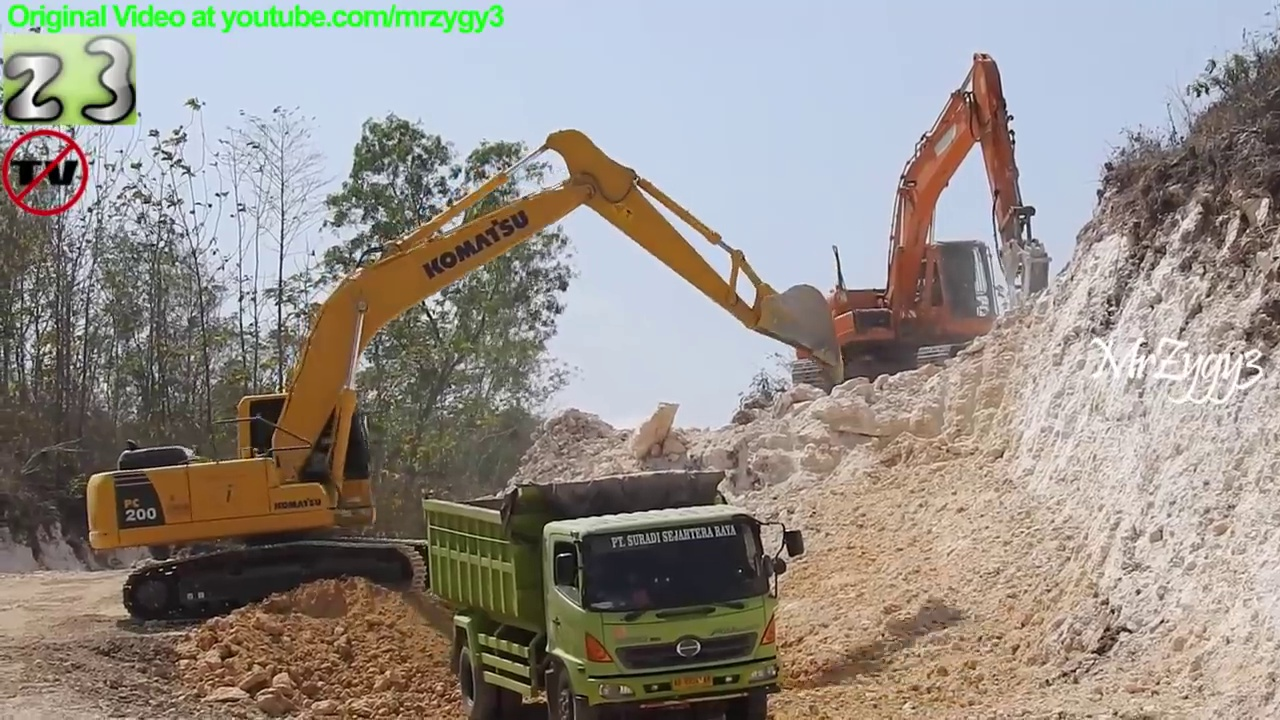excavator: (84, 126, 854, 634), (785, 55, 1064, 403)
truck: (422, 468, 806, 720)
